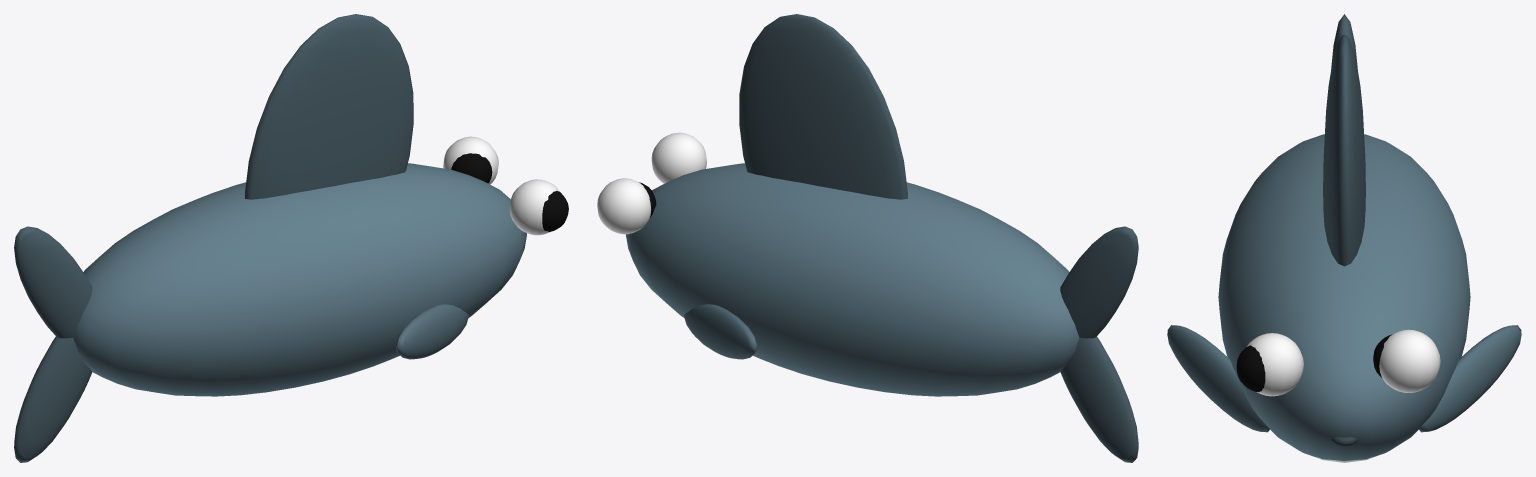
Rendered from hiu.glb.
3 renders of one model, left to right at view 1: azimuth 30°, elevation 25°; view 2: azimuth 150°, elevation 25°; view 3: azimuth 270°, elevation 25°, orthographic. The views are drawn at different scales.
Size of the model in its own units: 1.73 by 1.18 by 0.9076.
